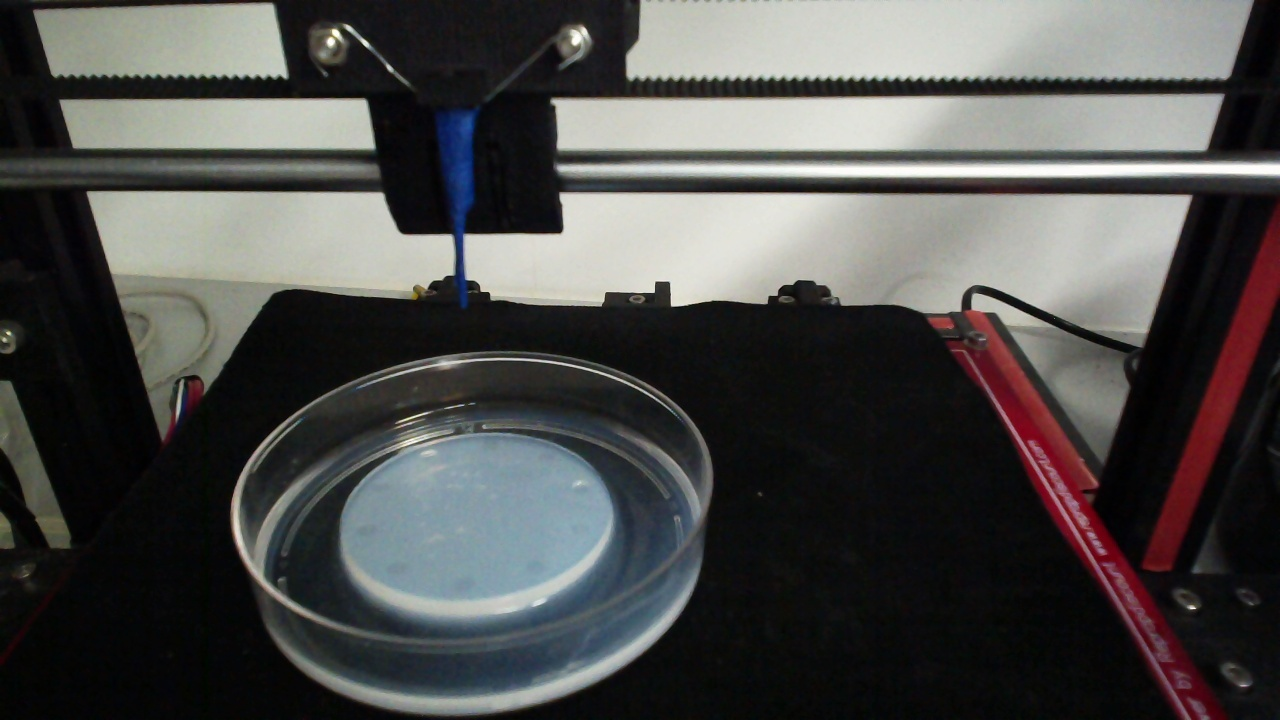groove: (450, 572, 476, 593), (383, 557, 408, 575), (368, 475, 392, 493), (569, 478, 593, 496), (523, 559, 545, 578), (354, 521, 377, 539), (569, 519, 590, 537), (479, 438, 501, 453), (535, 452, 554, 466), (419, 448, 437, 461)
needle: (431, 109, 476, 307)
